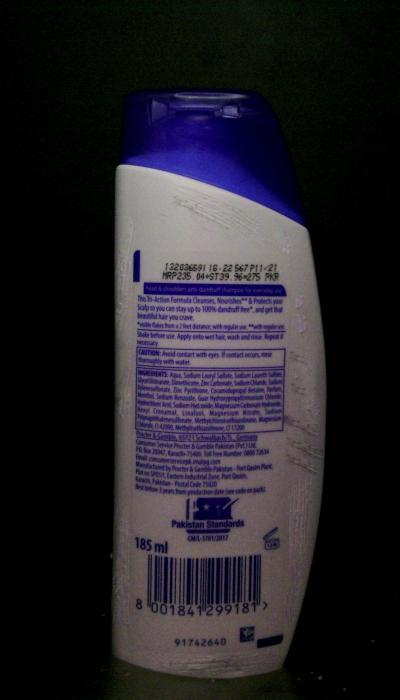scuff_unacc: (166, 178, 268, 241), (279, 482, 325, 618), (113, 218, 138, 426), (280, 412, 332, 476), (110, 519, 134, 649), (165, 652, 263, 678), (288, 285, 322, 338), (284, 342, 318, 369), (282, 231, 302, 265), (288, 383, 319, 402)
